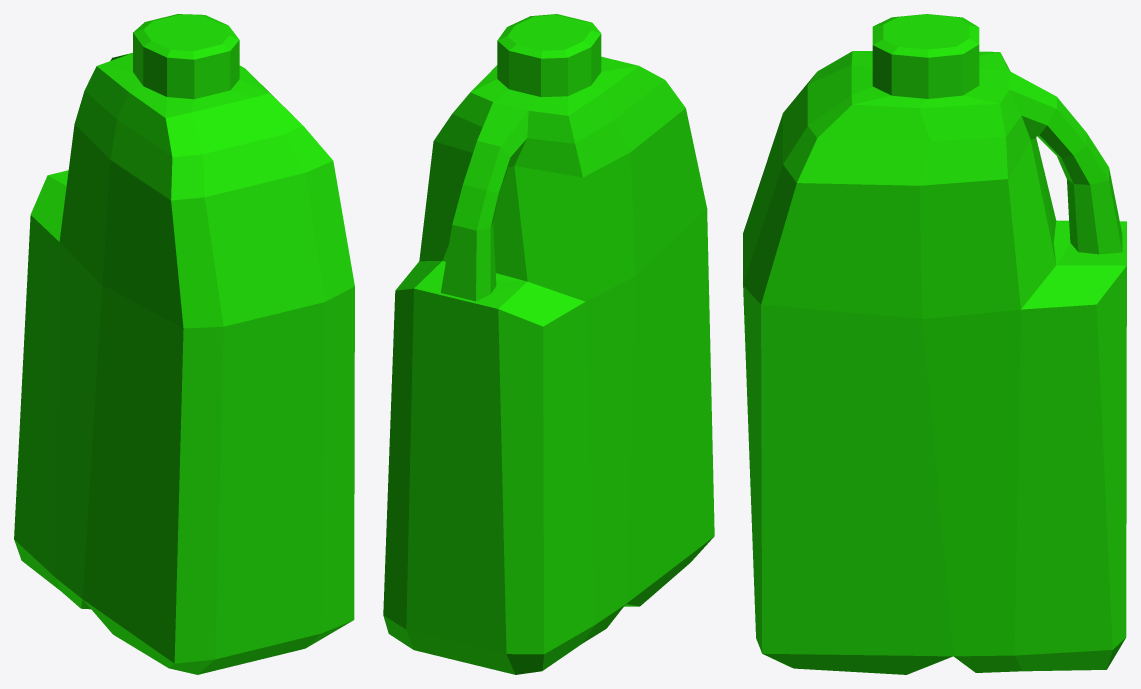
The model's file is Big Bottle.fbx.
The picture shows the model from 3 angles, left to right: view 1: azimuth 30°, elevation 25°; view 2: azimuth 150°, elevation 25°; view 3: azimuth 270°, elevation 25°; orthographic projection. The views are drawn at different scales.
Parts seen in each view (by area): view 1: Big Bottle; view 2: Big Bottle; view 3: Big Bottle.
Boxes of the visible parts, <box> form: Big Bottle: <box>14,14,354,674</box>; Big Bottle: <box>383,14,714,674</box>; Big Bottle: <box>743,14,1126,674</box>.
Bounding box in the file's own units: 9.22 × 27.89 × 15.96.
